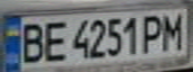1: (121, 13, 142, 55)
2: (87, 16, 109, 58)
4: (69, 16, 90, 61)
5: (106, 15, 127, 57)
B: (15, 19, 48, 64)
E: (36, 17, 69, 63)
M: (157, 9, 190, 51)
P: (139, 11, 169, 53)
